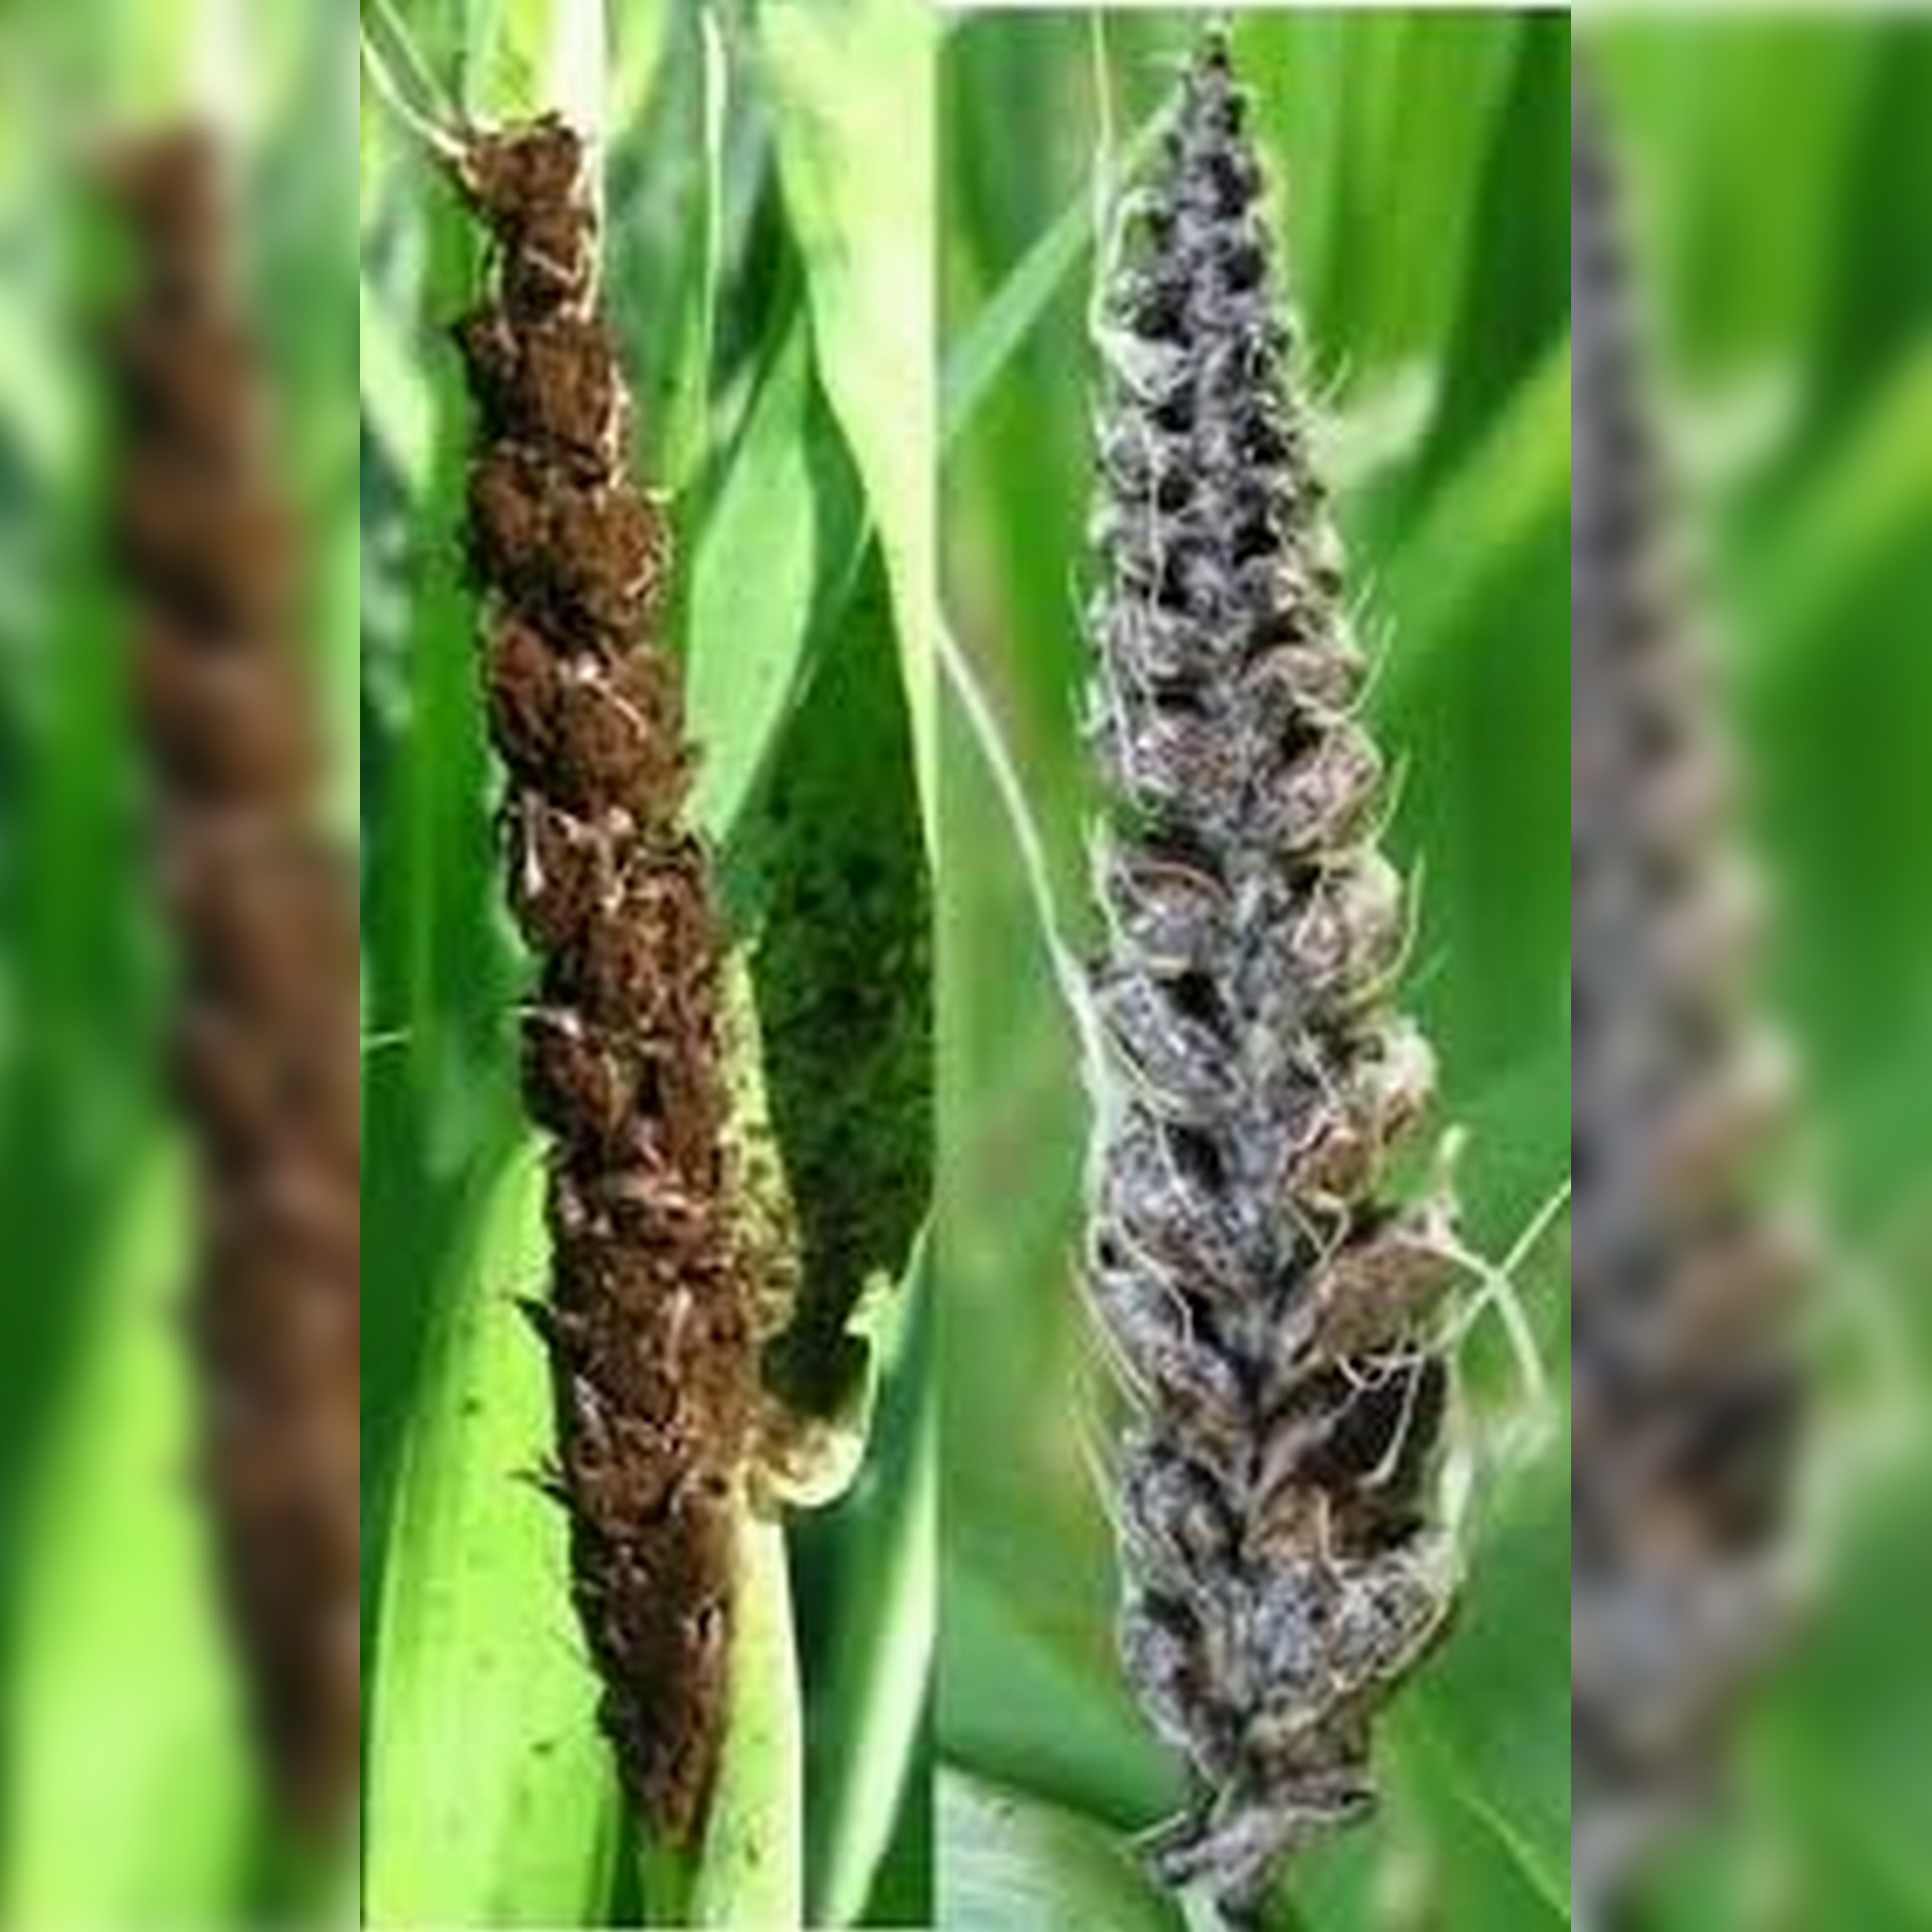Wheat Loose Smut: (1017, 32, 1484, 1744), (416, 90, 812, 1725)
